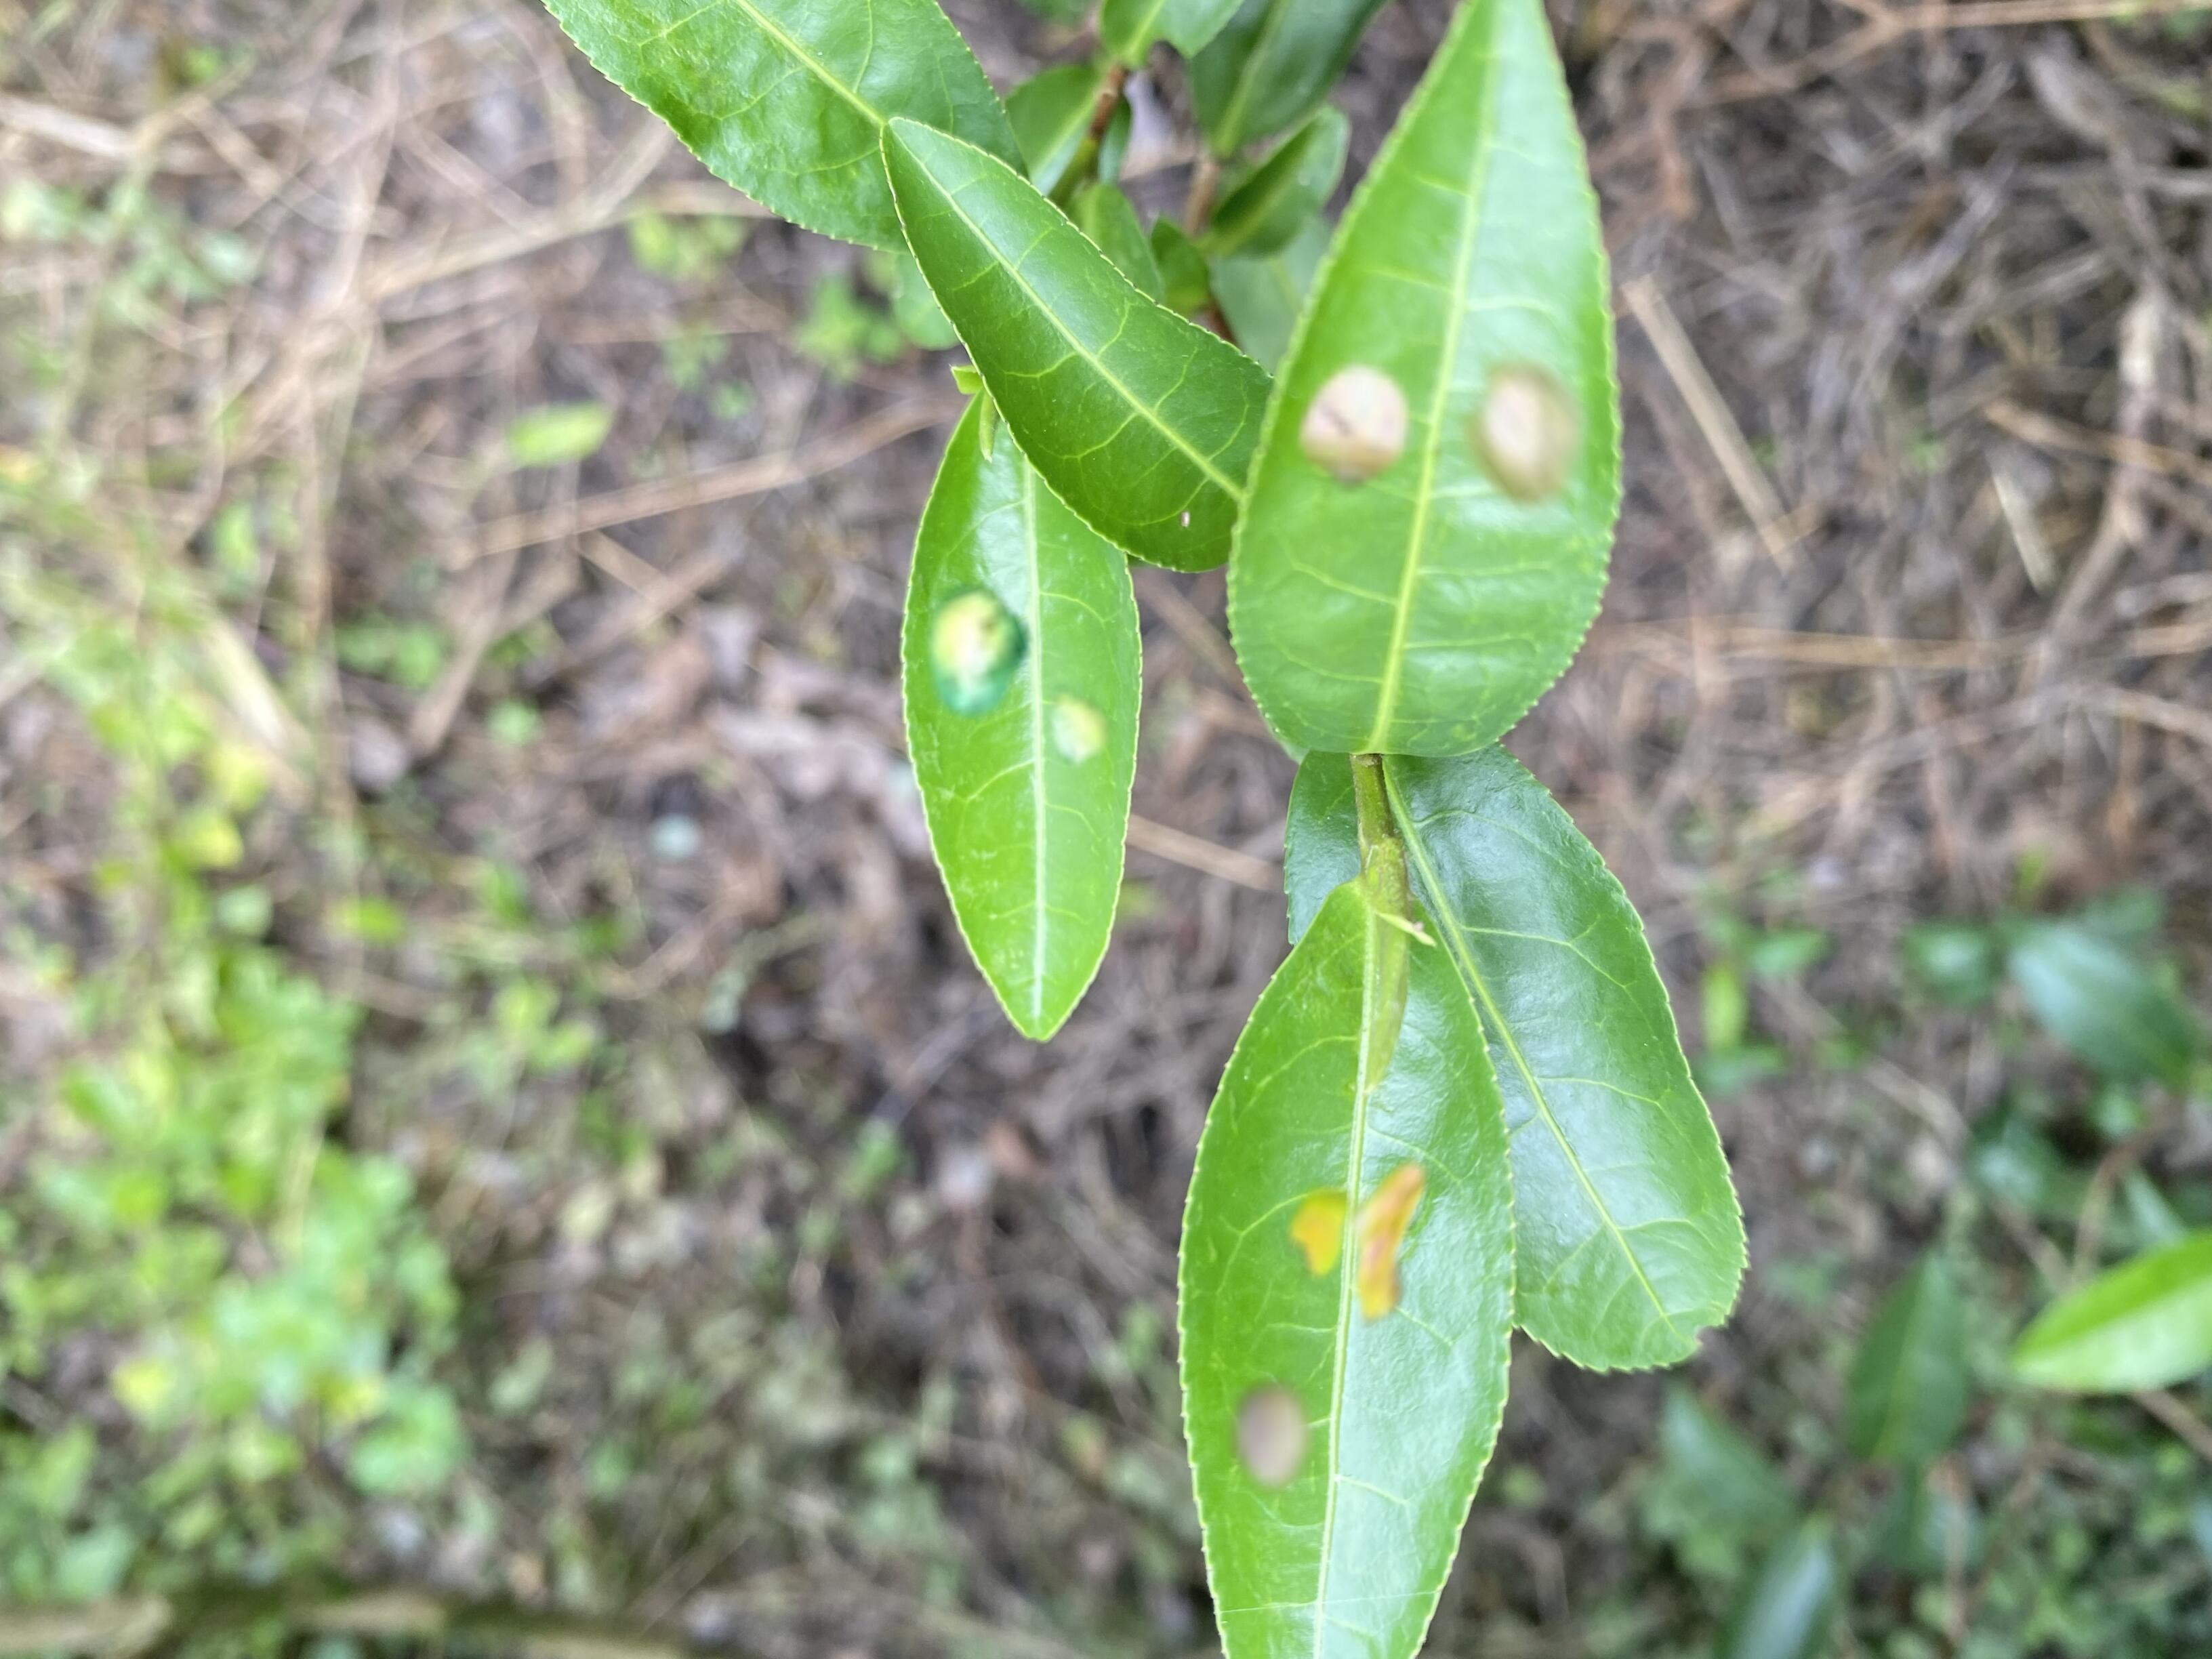chabing_high: (1228, 3, 1627, 760), (1176, 884, 1515, 1659), (900, 390, 1148, 1042)
healthy: (881, 117, 1277, 570), (540, 0, 1029, 249)
